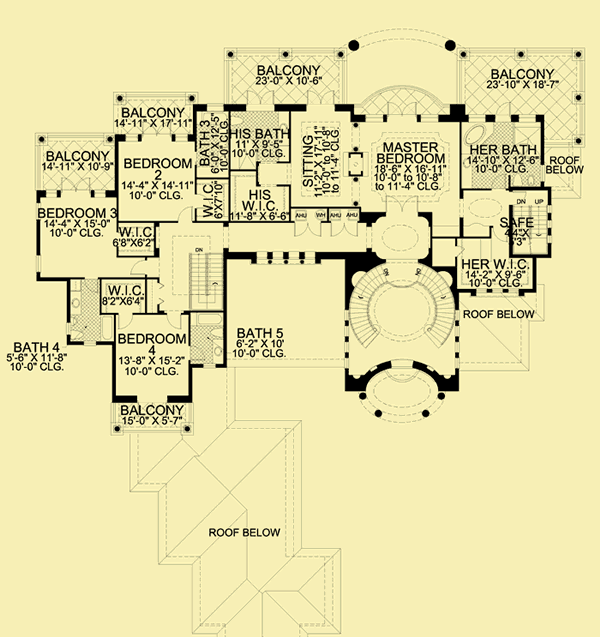door: (384, 193, 422, 214), (58, 178, 94, 195), (290, 220, 323, 238), (305, 87, 336, 106), (384, 101, 417, 117), (329, 222, 360, 239), (245, 90, 275, 103), (129, 258, 149, 277), (495, 100, 512, 120), (177, 205, 195, 223), (164, 313, 184, 329), (116, 314, 133, 329)
stairs: (349, 263, 456, 353), (185, 247, 225, 312), (511, 197, 550, 256)
tub: (462, 123, 489, 147)
windows: (250, 249, 321, 266)
